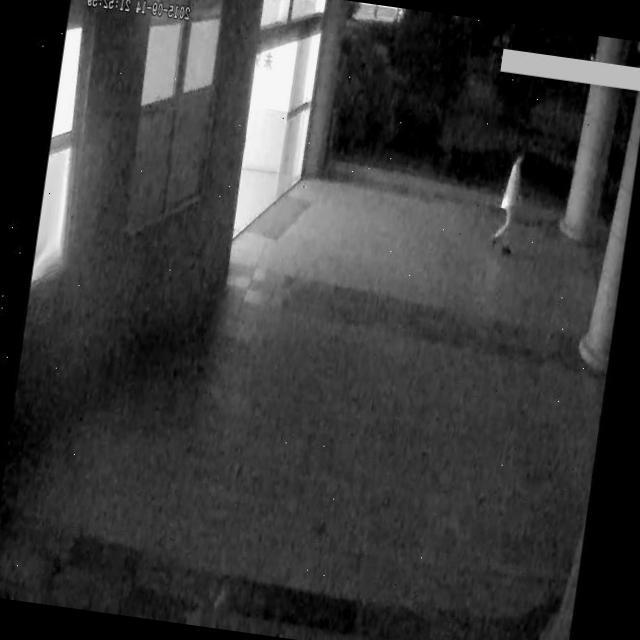person: (479, 128, 541, 272)
